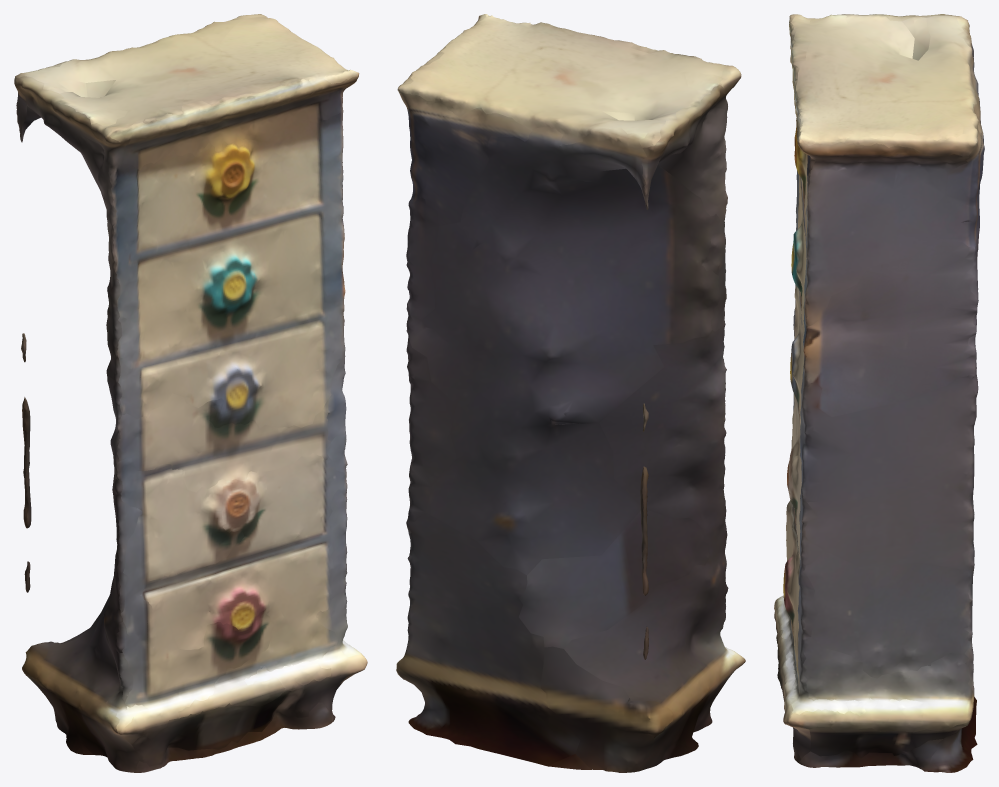
3 renders of one model, left to right at view 1: azimuth 30°, elevation 25°; view 2: azimuth 150°, elevation 25°; view 3: azimuth 270°, elevation 25°, orthographic.
Parts seen in each view (by area): view 1: mesh; view 2: mesh; view 3: mesh.
Boxes of the visible parts, <box> form: mesh: <box>14,14,367,772</box>; mesh: <box>396,14,745,772</box>; mesh: <box>774,14,984,772</box>.
Size of the model in its own units: 0.1566 by 0.3626 by 0.1077.
Materials: 1 (1 with a texture image).
